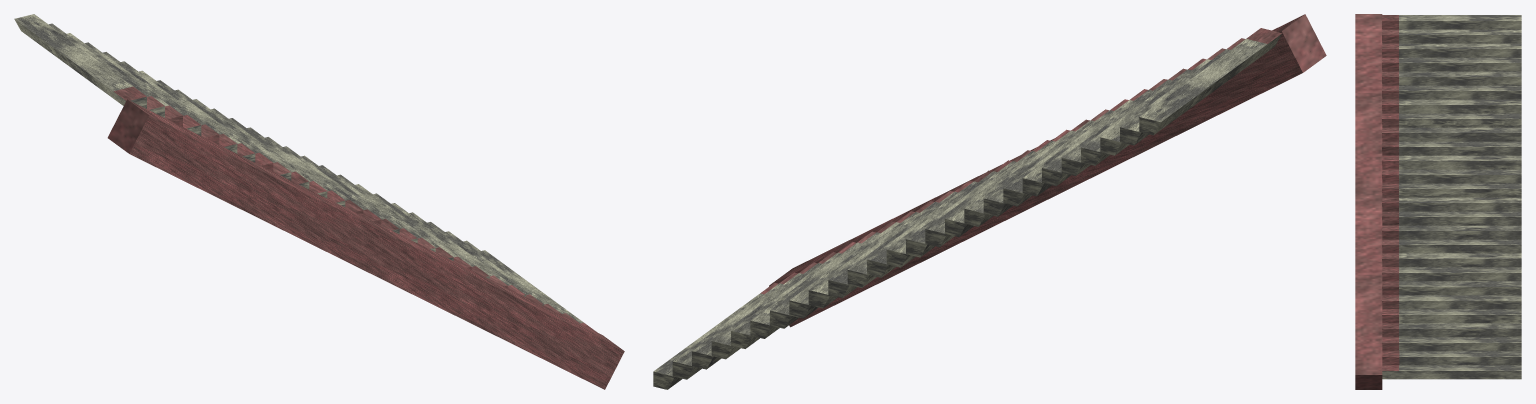
File: Loading .fbx
The picture shows the model from 3 angles, left to right: view 1: azimuth 30°, elevation 25°; view 2: azimuth 150°, elevation 25°; view 3: azimuth 270°, elevation 25°; orthographic projection. The views are drawn at different scales.
Visible parts, largest first — view 1: Cube.002, Cube, Cube.001; view 2: Cube, Cube.002, Cube.001; view 3: Cube, Cube.002, Cube.001.
Part boxes in pixels (x1,y1,x2,y2): Cube.002: [107, 99, 624, 389]; Cube: [14, 14, 583, 323]; Cube.001: [113, 86, 596, 331]; Cube: [653, 34, 1281, 389]; Cube.002: [769, 14, 1326, 327]; Cube.001: [760, 28, 1281, 294]; Cube: [1382, 15, 1521, 379]; Cube.002: [1355, 14, 1382, 389]; Cube.001: [1382, 15, 1399, 370].
Bounding box in the file's own units: 2612 × 1944 × 1228.
